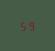five: (19, 20, 26, 31)
nine: (27, 20, 34, 30)
